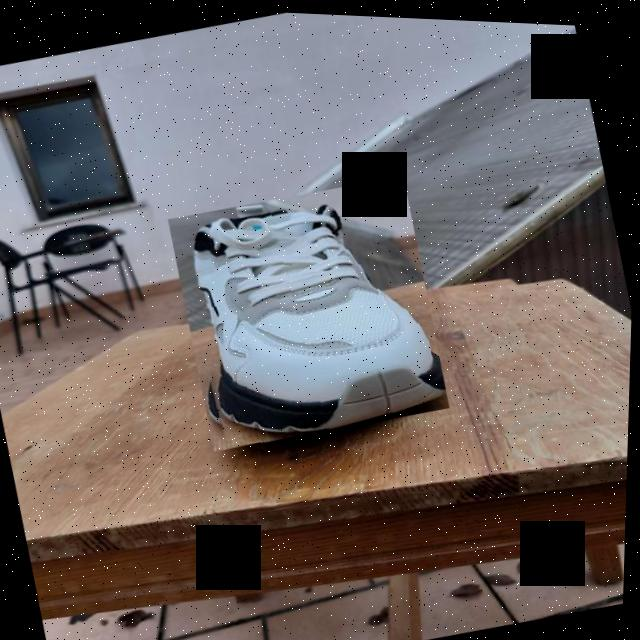shoe: (164, 164, 457, 458)
